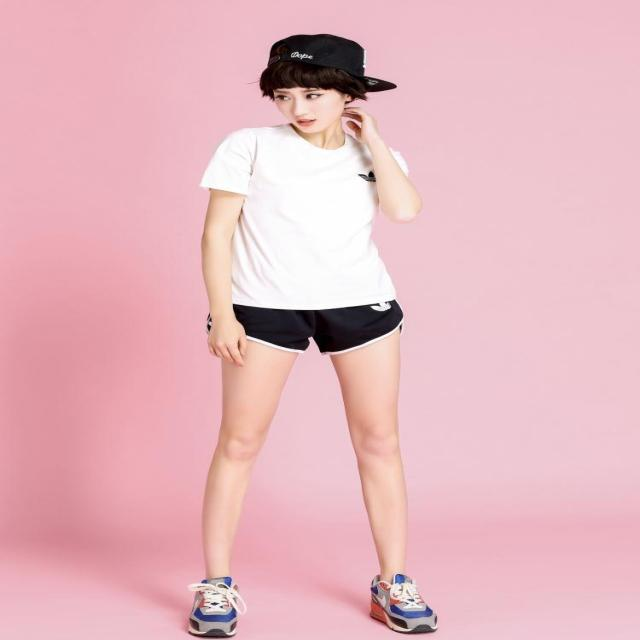short sleeve top: (201, 125, 410, 310)
shorts: (207, 279, 403, 354)
